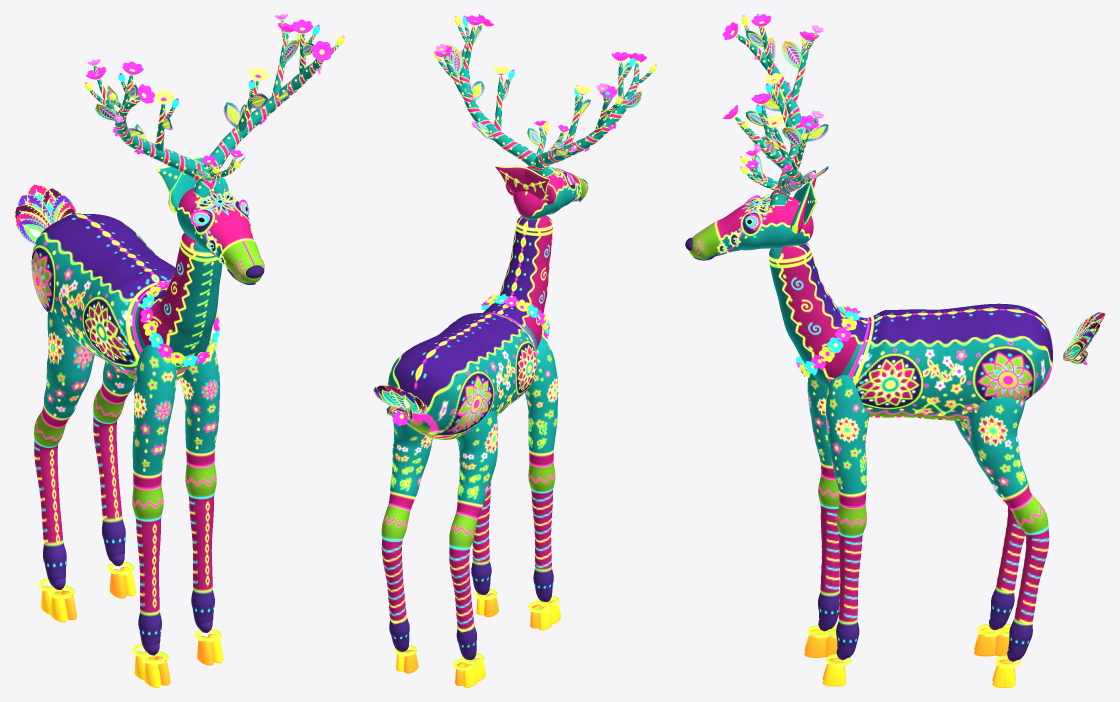
Rendered from alebrije_venado_hero.glb.
The picture shows the model from 3 angles, left to right: view 1: azimuth 30°, elevation 25°; view 2: azimuth 150°, elevation 25°; view 3: azimuth 270°, elevation 25°; orthographic projection. The views are drawn at different scales.
Visible parts, largest first — view 1: alebrije_venado_hero; view 2: alebrije_venado_hero; view 3: alebrije_venado_hero.
Boxes of the visible parts, bbox=[...] form: alebrije_venado_hero: bbox=[14, 14, 344, 687]; alebrije_venado_hero: bbox=[373, 14, 656, 687]; alebrije_venado_hero: bbox=[685, 14, 1105, 687].
Size of the model in its own units: 0.5655 by 1.5 by 0.9344.
Materials: 3 (3 with a texture image).
